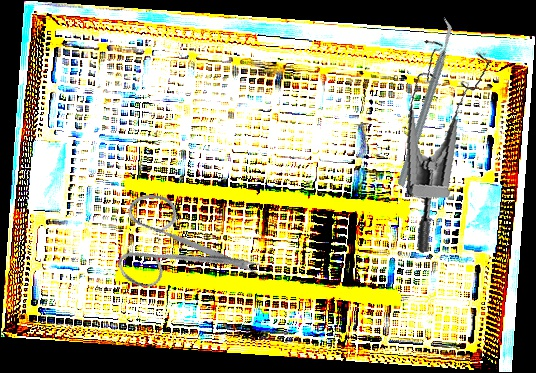Chopper: (342, 17, 506, 188)
Iris Scissors: (95, 161, 267, 327)
Speculum: (382, 31, 519, 254)
